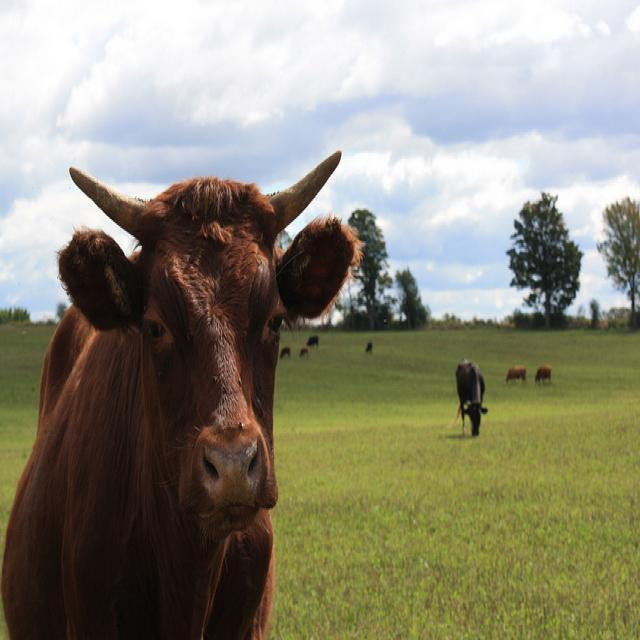cow: (0, 147, 356, 631), (446, 355, 487, 435), (504, 364, 525, 384), (533, 361, 551, 382), (305, 334, 317, 346), (279, 345, 288, 357), (298, 345, 307, 357), (364, 340, 370, 351)
